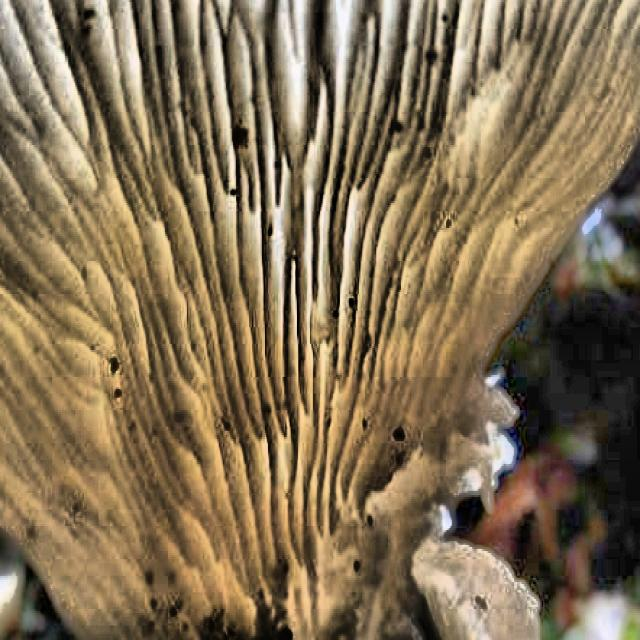Healthy: (0, 0, 515, 607)
